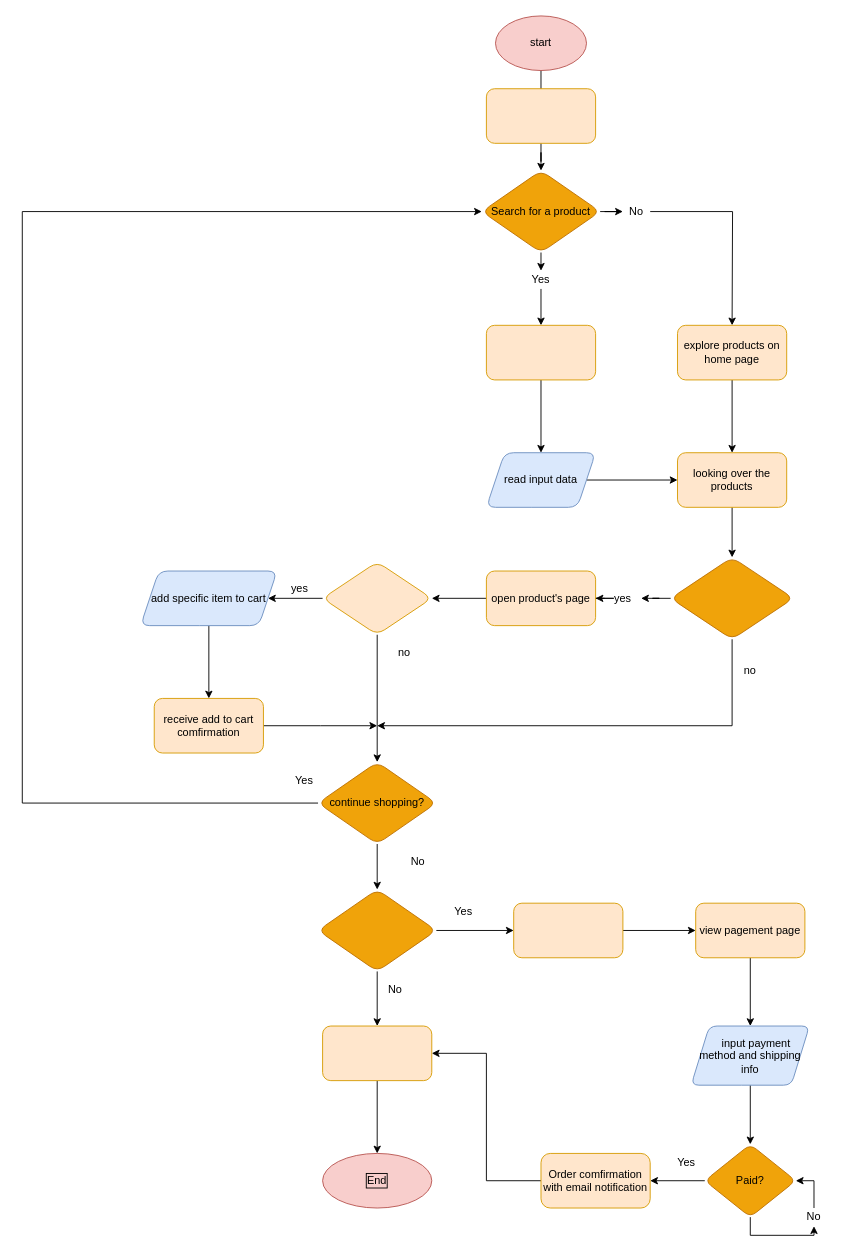
This 848x1259 diagram has some shape labels left out. Here are the shapes that lost their labels. From the top down, the box of each, then its label:
(485, 88, 596, 143): User enter website
(485, 324, 596, 380): Provide an search box
(322, 561, 432, 635): add to cart
(670, 556, 794, 639): View a specific product
(317, 889, 436, 971): Check out?
(513, 902, 623, 958): view cart page
(322, 1025, 432, 1081): User leave website
